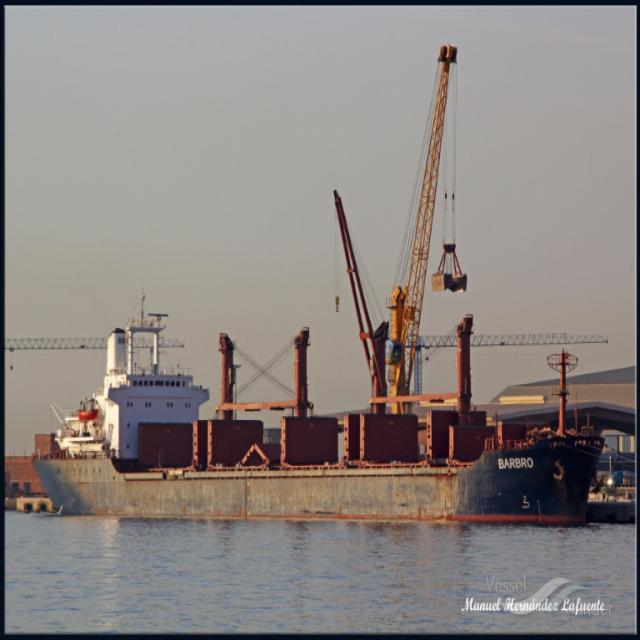Bulk Carrier: (31, 317, 606, 523)
